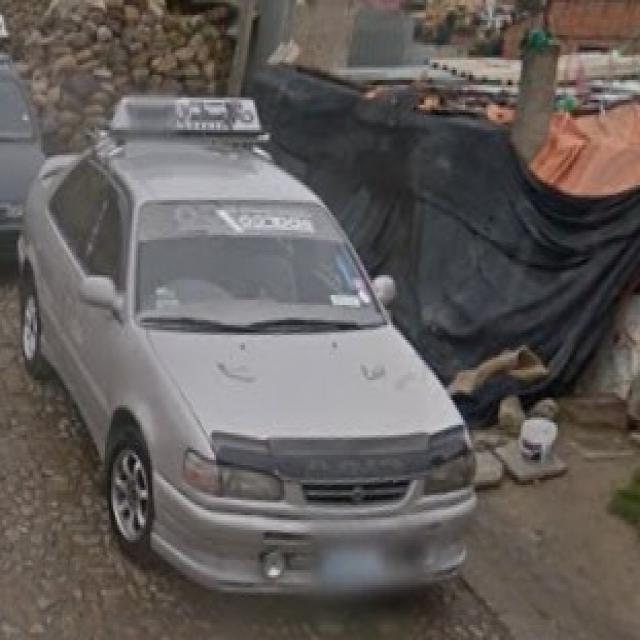car: (11, 140, 466, 615)
